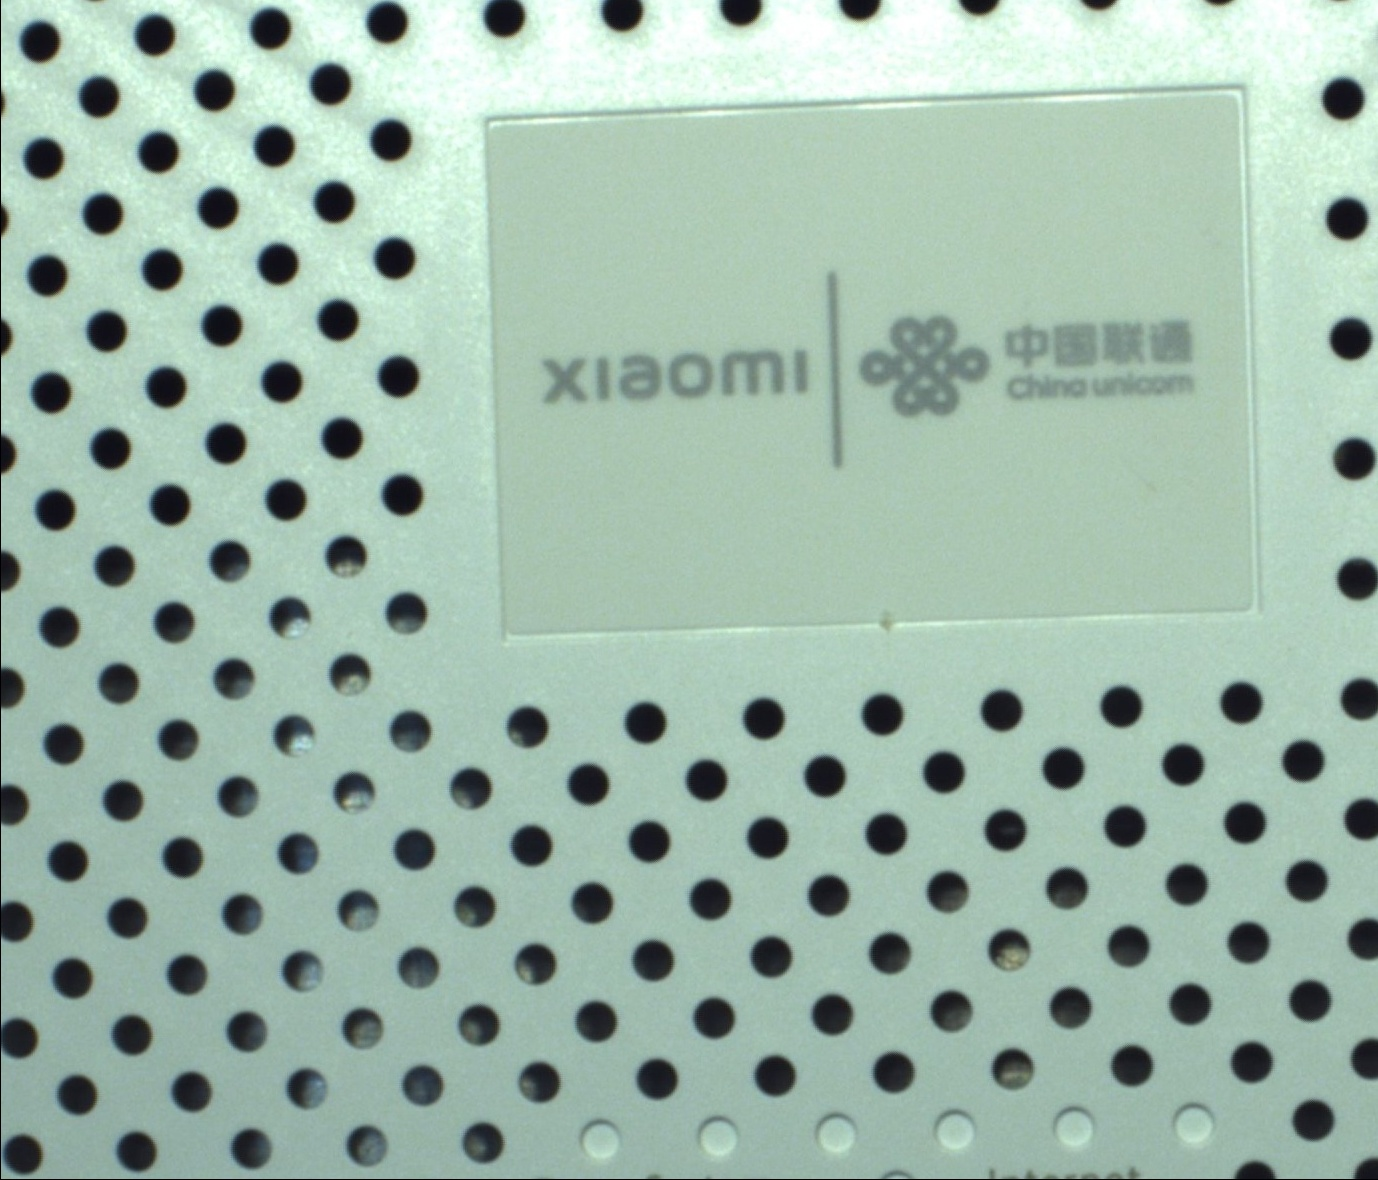MAC_NewUnicom: (530, 272, 1215, 482)
